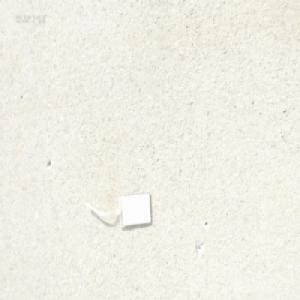LuggageTag: (85, 190, 155, 231)
